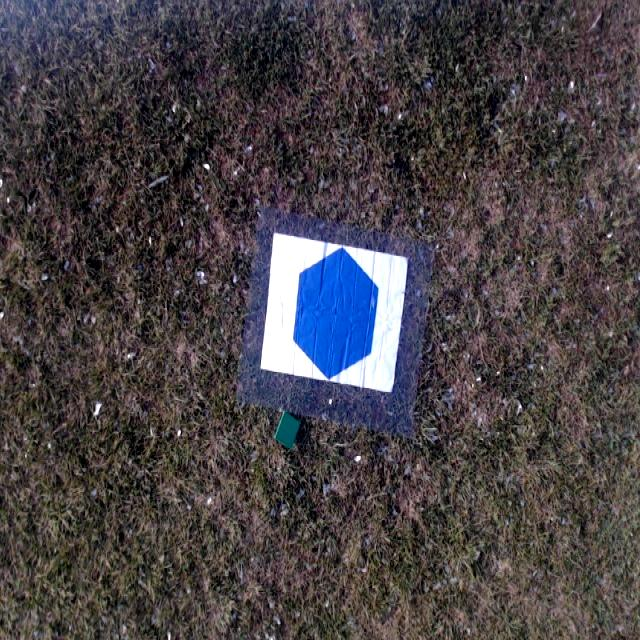blue_hexagon: (293, 249, 378, 377)
